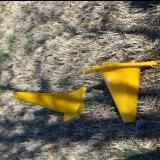cone: (84, 60, 158, 122), (13, 85, 87, 122)
